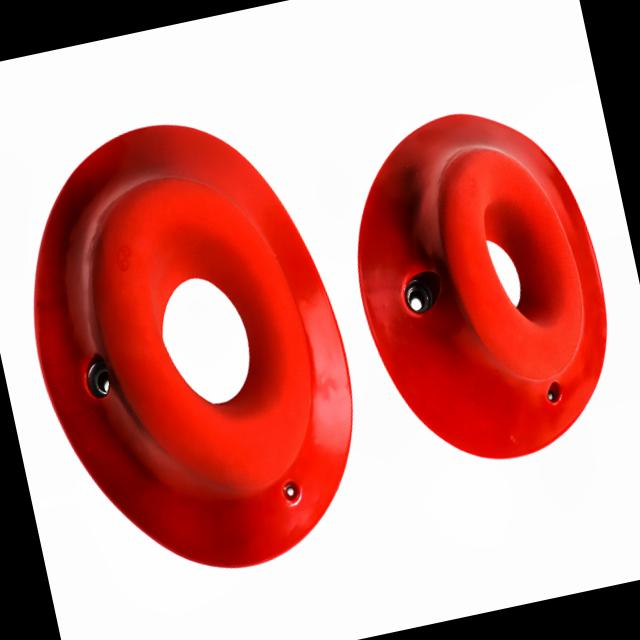Hold: (0, 94, 385, 602), (329, 93, 632, 482)
